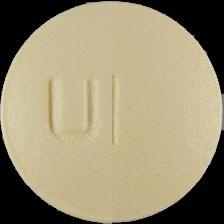29300-187: (0, 0, 224, 224)
